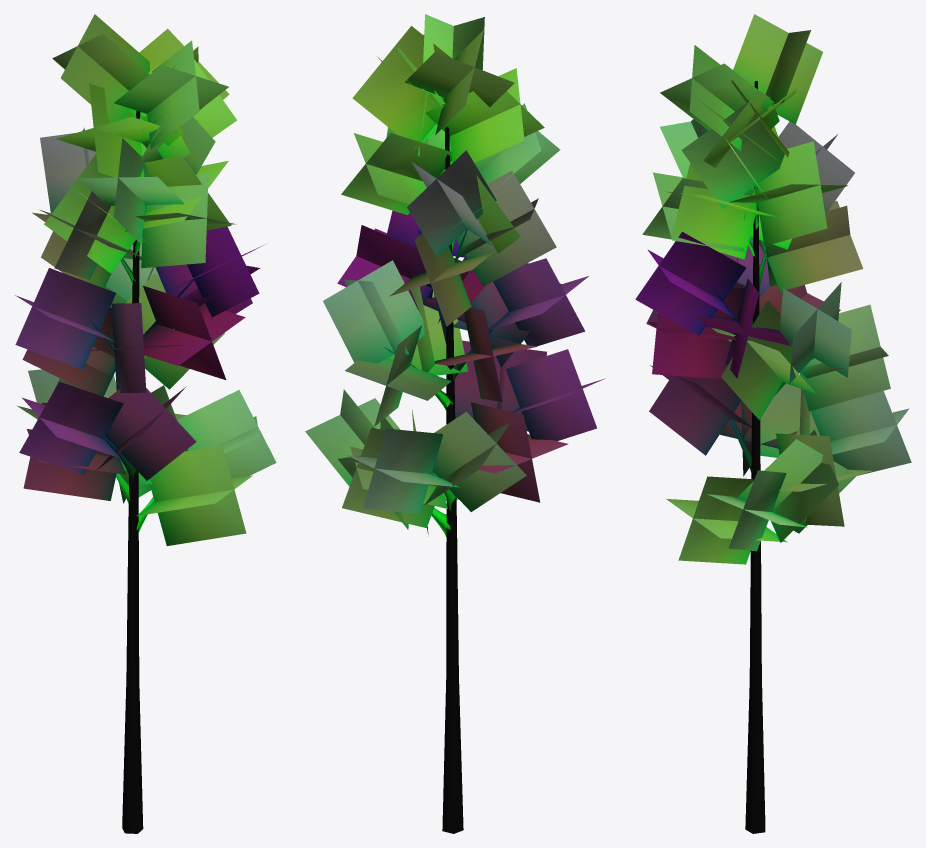
Rendered from URP_P5_Tree_2_LOD_3.fbx.
The picture shows the model from 3 angles, left to right: view 1: azimuth 30°, elevation 25°; view 2: azimuth 150°, elevation 25°; view 3: azimuth 270°, elevation 25°; orthographic projection.
Parts seen in each view (by area): view 1: Tree_2_LOD_3; view 2: Tree_2_LOD_3; view 3: Tree_2_LOD_3.
Boxes of the visible parts, box(x1,y1,x2,y2) form: Tree_2_LOD_3: box(15, 14, 276, 833); Tree_2_LOD_3: box(305, 14, 605, 833); Tree_2_LOD_3: box(635, 14, 911, 833).
Bounding box in the file's own units: 286 × 832 × 260.
